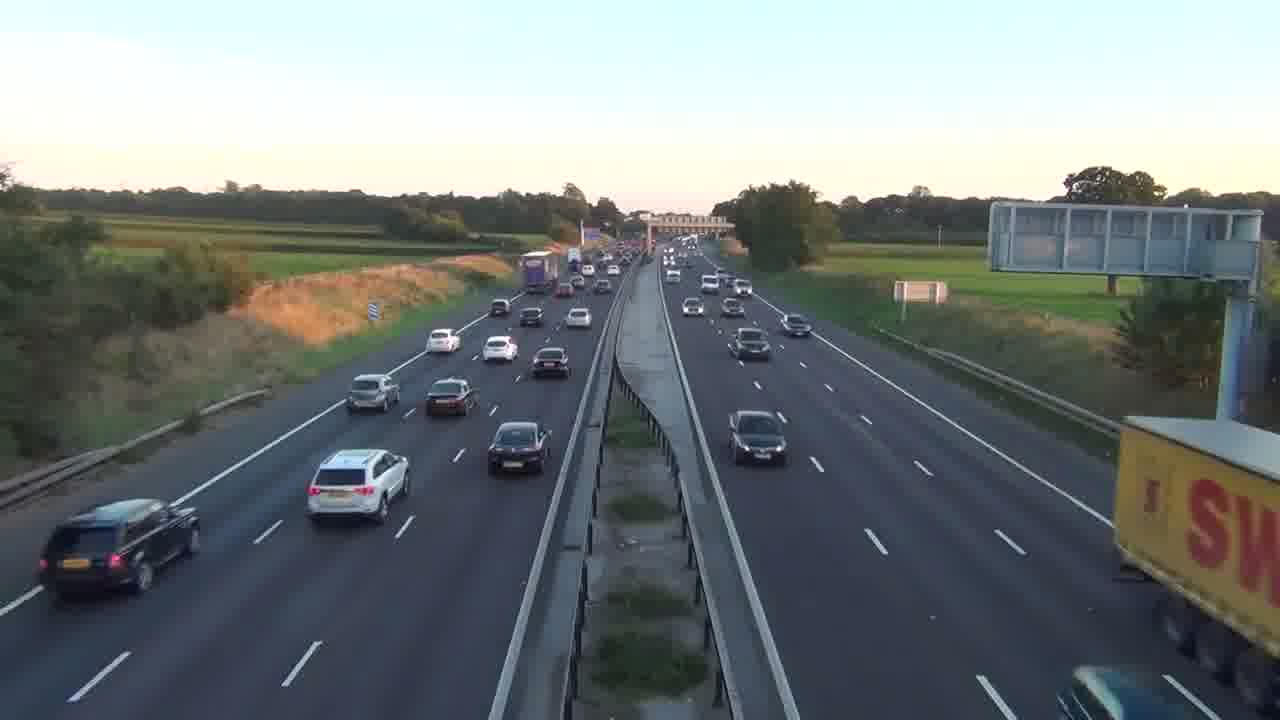car: (305, 447, 410, 523), (727, 409, 790, 466), (487, 419, 552, 474), (347, 372, 400, 415), (424, 377, 478, 417), (529, 345, 571, 379), (734, 327, 772, 363), (482, 334, 518, 363), (427, 327, 461, 354), (564, 306, 592, 328), (518, 306, 545, 327), (681, 297, 705, 317)
truck: (34, 496, 202, 600)
